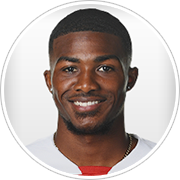face: (40, 41, 140, 122)
